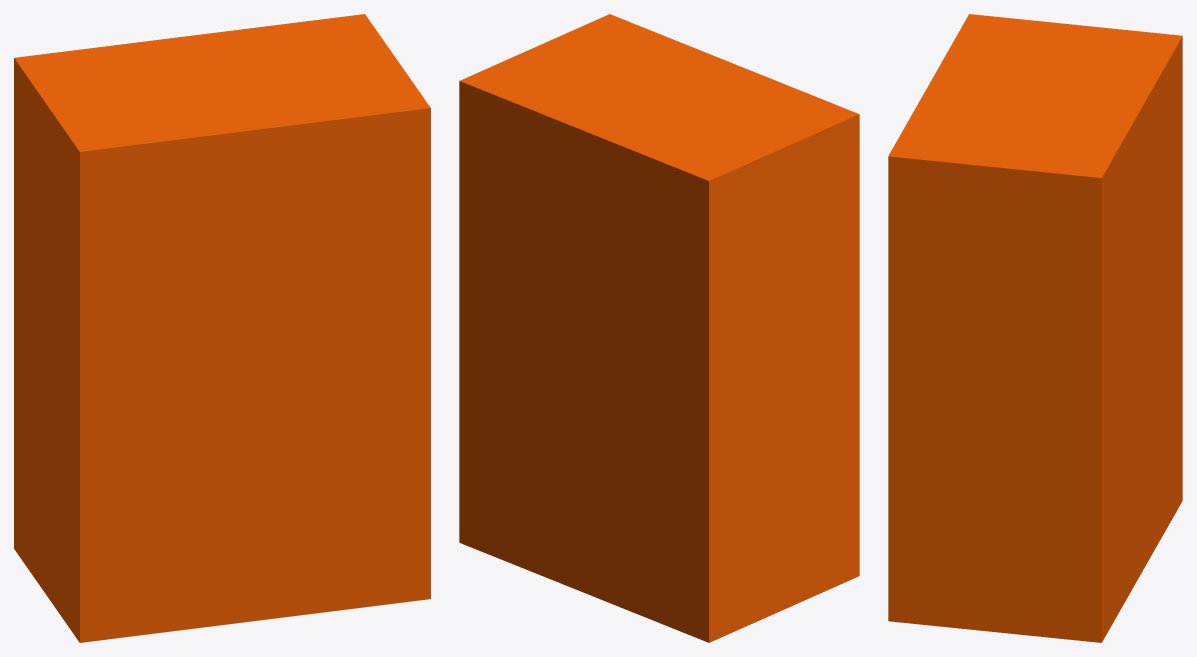
The model's file is DEHB01ALn0001VBb.dae.
3 renders of one model, left to right at view 1: azimuth 30°, elevation 25°; view 2: azimuth 150°, elevation 25°; view 3: azimuth 270°, elevation 25°, orthographic. The views are drawn at different scales.
Size of the model in its own units: 3.09 by 2.35 by 4.08.
